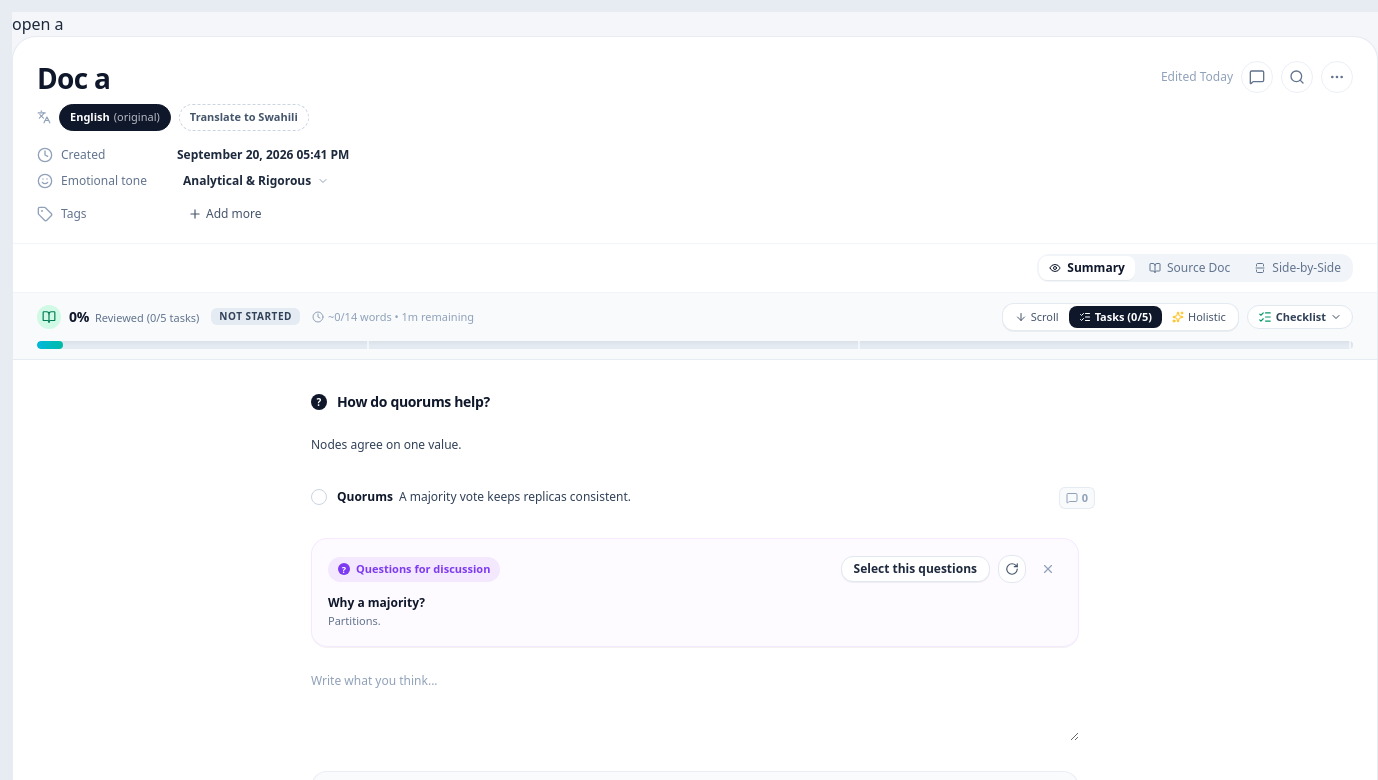
Test: translating a summary in the editor › translates, saves the translation with the document, and shows it
Click the button "Translate to Swahili" at (244, 117), box [179,104,309,130]
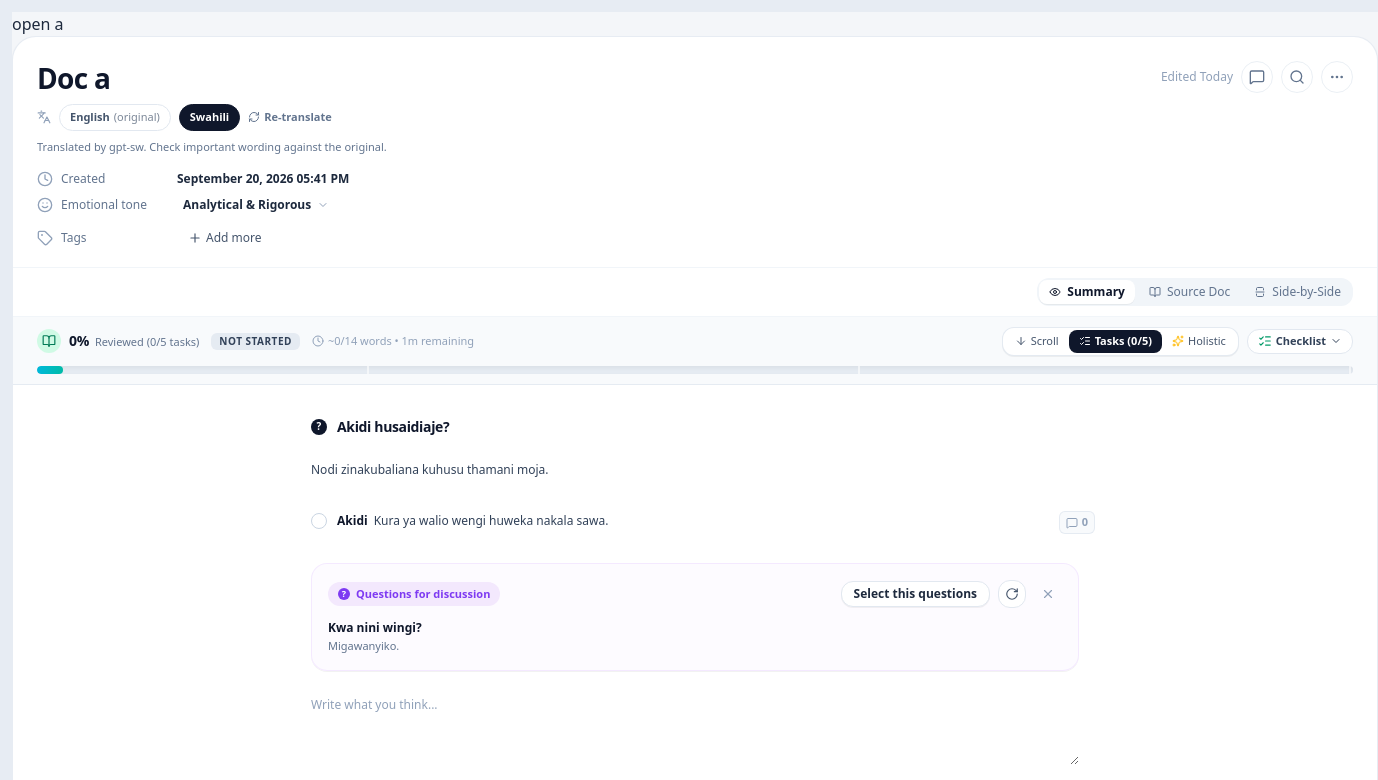
Check: the text "Nodi zinakubaliana kuhusu thamani moja." is shown, box [311,461,548,478]
Check: the text "Nodes agree on one value." is gone
Check: the text "Akidi" is shown, box [337,417,449,436]
Back to the original, and to the translation again, with no second request.
Click the button "English(original)" at (115, 117), box [59,104,171,130]
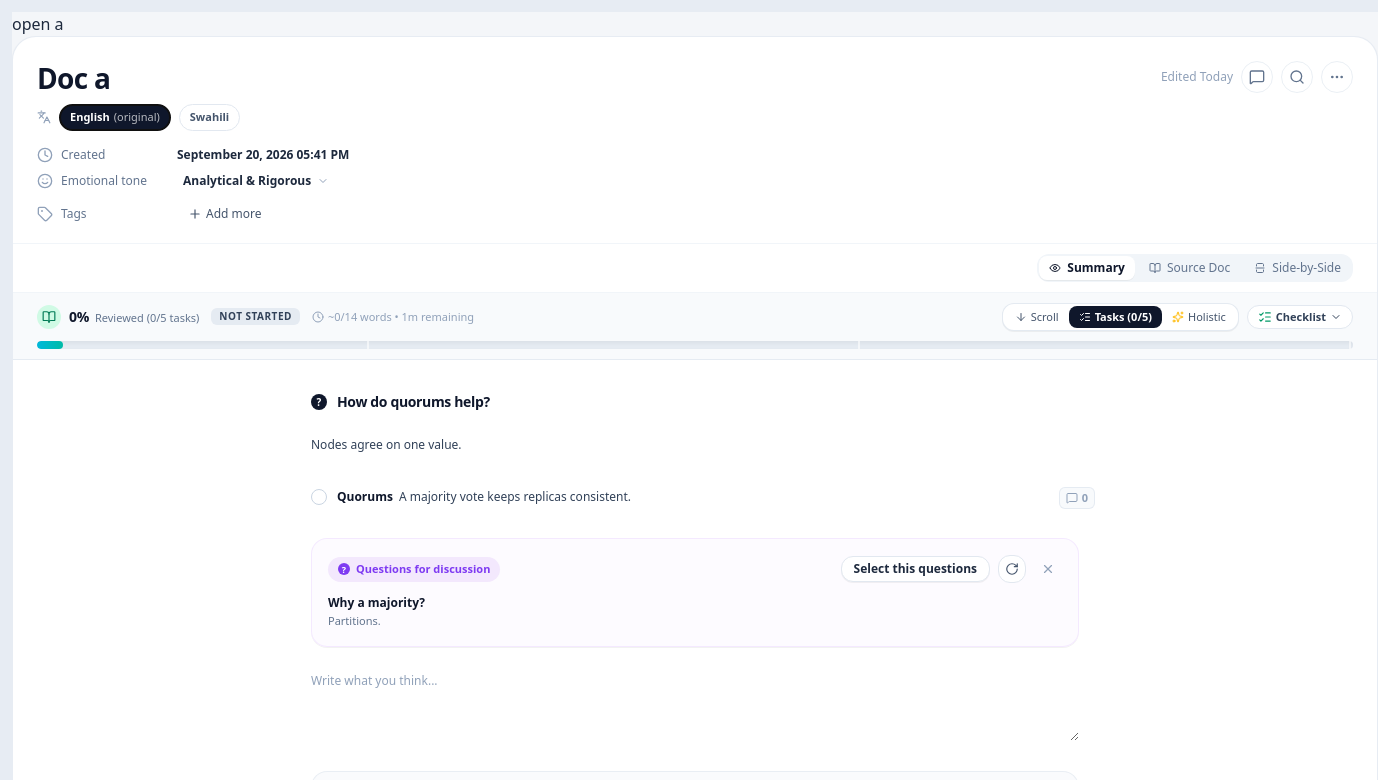
Check: the text "Nodes agree on one value." is shown, box [311,436,462,453]
Click the button "Swahili" at (210, 117), box [179,104,240,130]
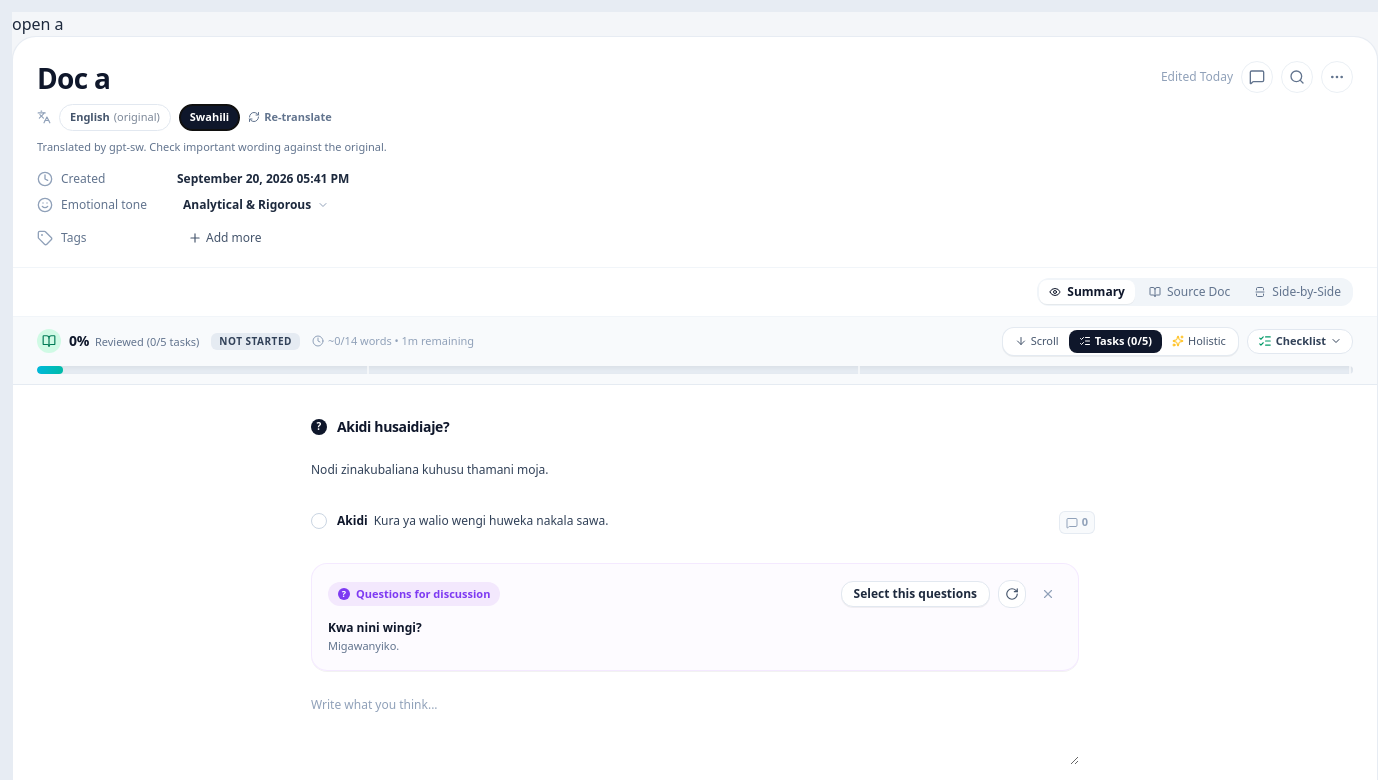
Check: the text "Nodi zinakubaliana" is shown, box [311,461,548,478]
